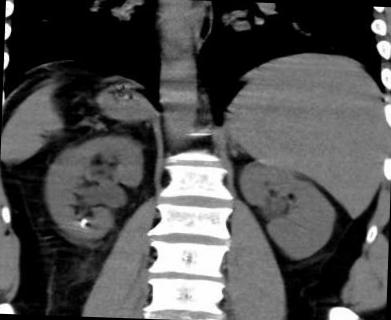Tas_Var: (78, 222, 84, 228), (80, 218, 88, 222)
